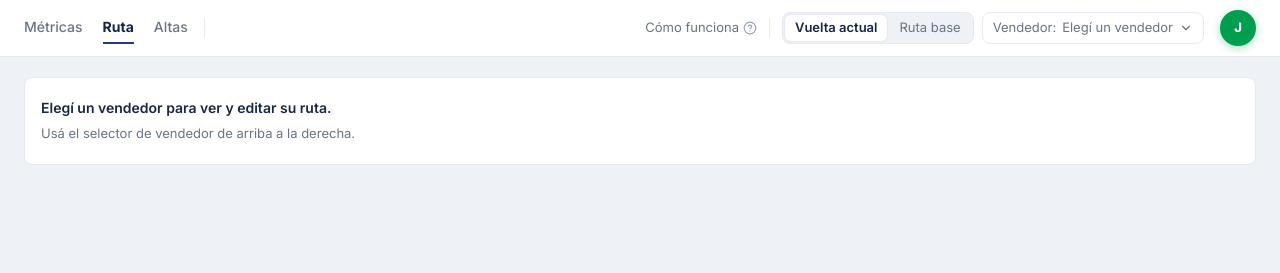
Test case: RutaPage › avisa cuando el grid de la rotación no se pudo cargar
The width and height of the screenshot is (1280, 273).
Click the button "Vendedor: Elegí un vendedor": (1093, 28) [982, 12, 1204, 44]
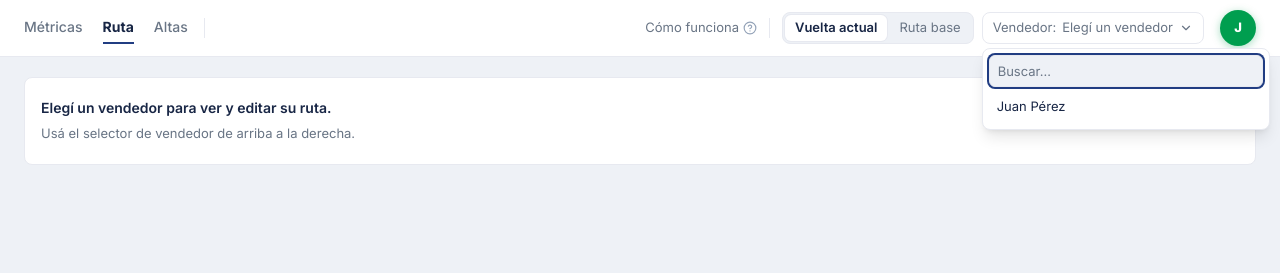
Click the option "Juan Pérez": (1031, 106) [997, 98, 1065, 114]
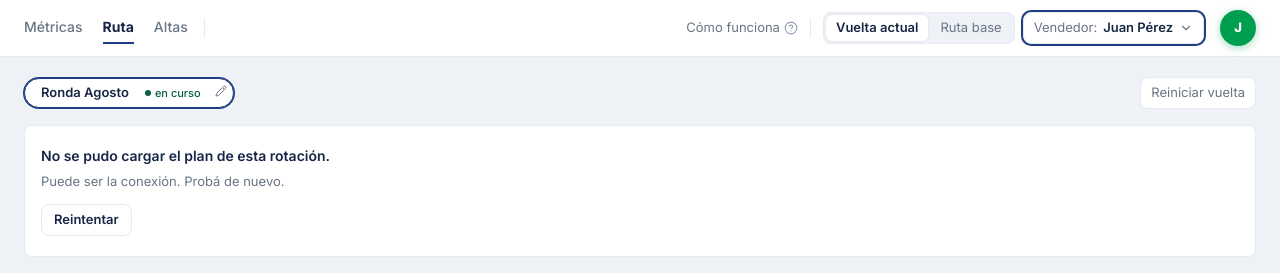
expect the text "No se pudo cargar el plan de esta rotación." is shown: met, box [41, 146, 330, 166]
